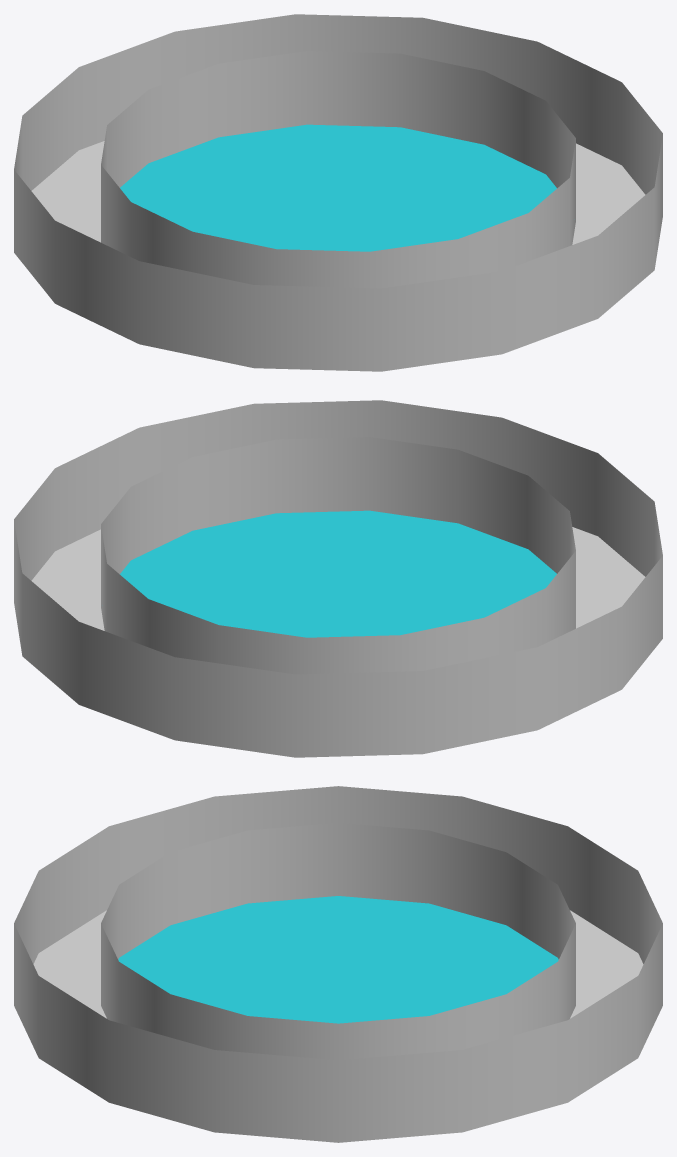
File: Ceiling_Light_circular.fbx
The picture shows the model from 3 angles, top to bottom: view 1: azimuth 30°, elevation 25°; view 2: azimuth 150°, elevation 25°; view 3: azimuth 270°, elevation 25°; orthographic projection.
Parts seen in each view (by area): view 1: Ceiling_Light_circular; view 2: Ceiling_Light_circular; view 3: Ceiling_Light_circular.
Part boxes in pixels (box(x1,y1,x2,y2)): Ceiling_Light_circular: box(14, 14, 662, 371); Ceiling_Light_circular: box(14, 400, 662, 757); Ceiling_Light_circular: box(14, 786, 662, 1142).
Size of the model in its own units: 0.0941 by 0.0132 by 0.0941.
